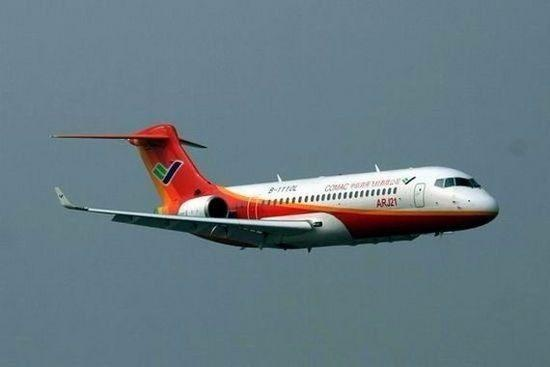airplane: (39, 123, 506, 252)
